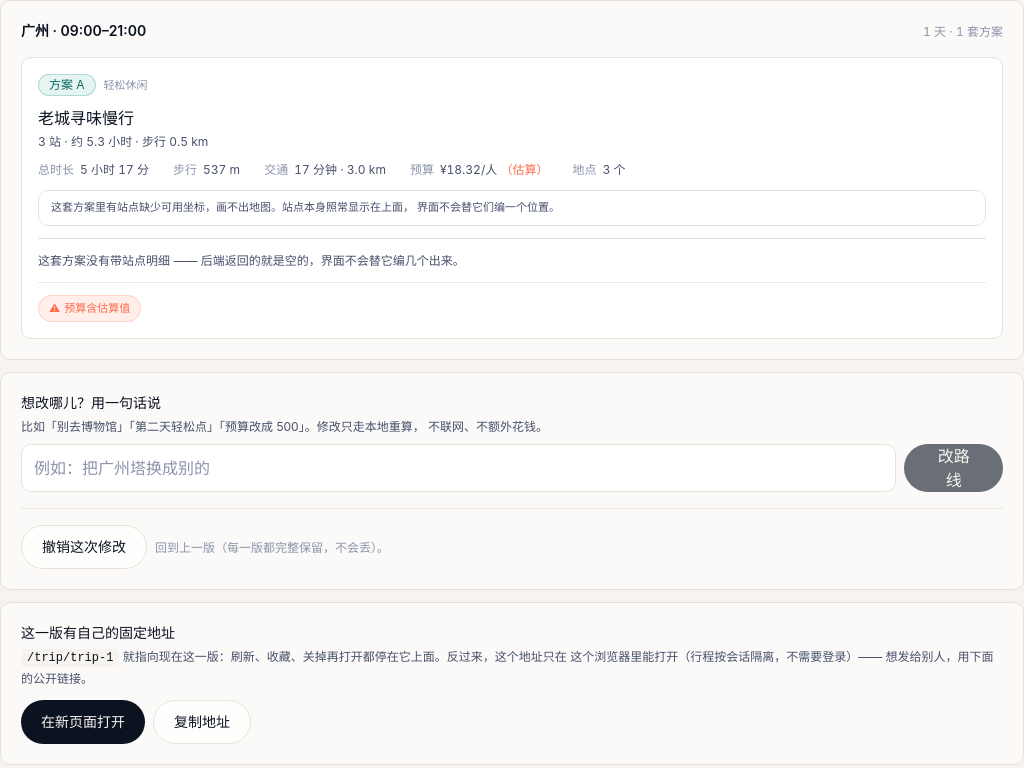
Test: 撤销 › 撤销成功 → 显示切回哪一版并重新取回
The image size is (1024, 768).
Expected: the element with test id "trip-result" is shown, [0, 0, 1023, 360]
Click the button "撤销这次修改" at (84, 547), box [21, 525, 147, 569]
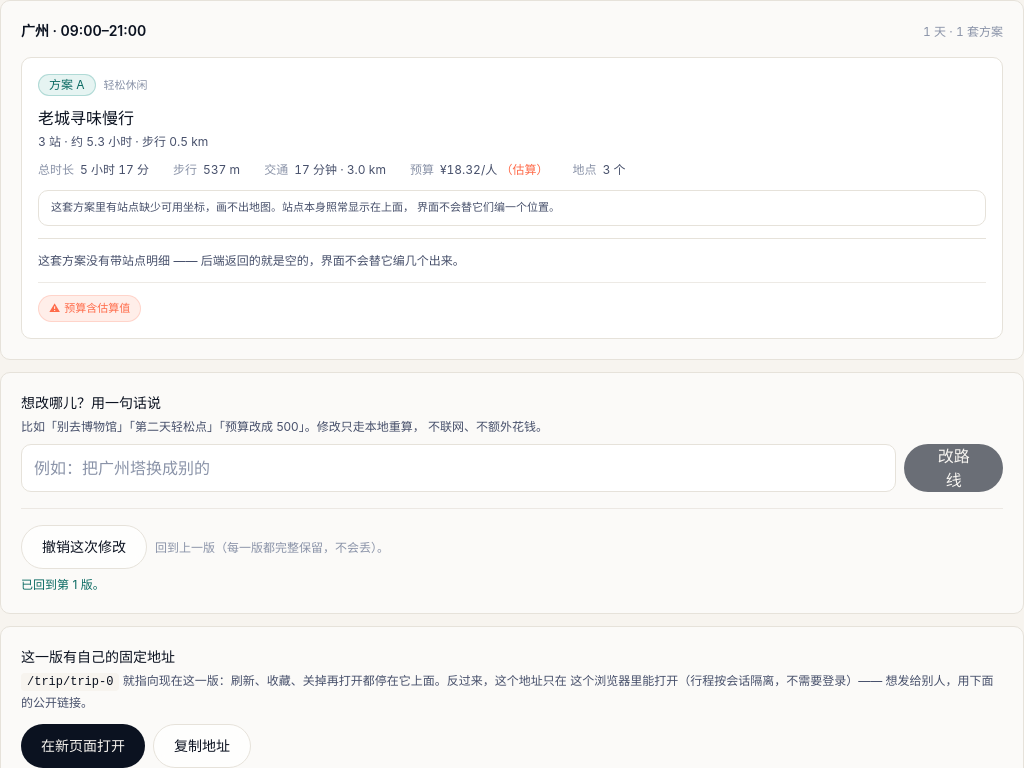
Now the text with test id "undo-note" shows "已回到第 1 版", box [21, 577, 105, 592]
